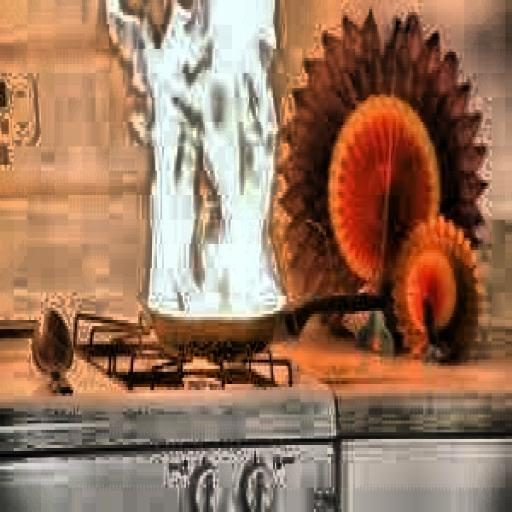fire: (109, 9, 297, 317)
